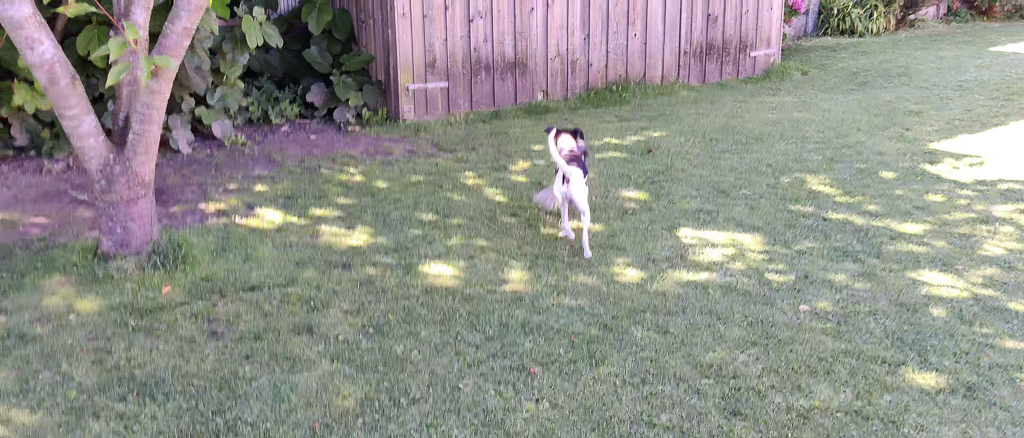Dog: (536, 117, 602, 263)
